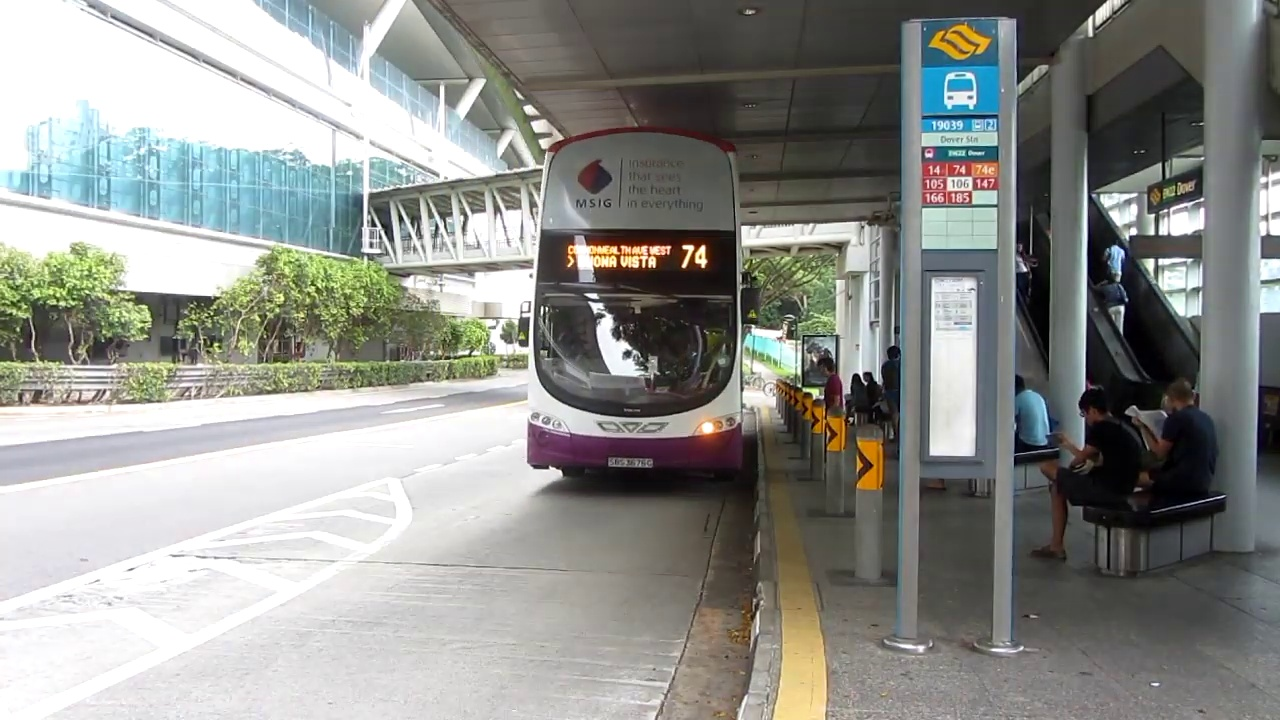bus panel: (561, 239, 714, 271)
